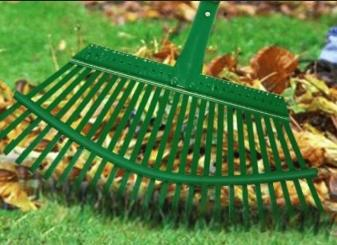RATEAU: (0, 7, 337, 232)
